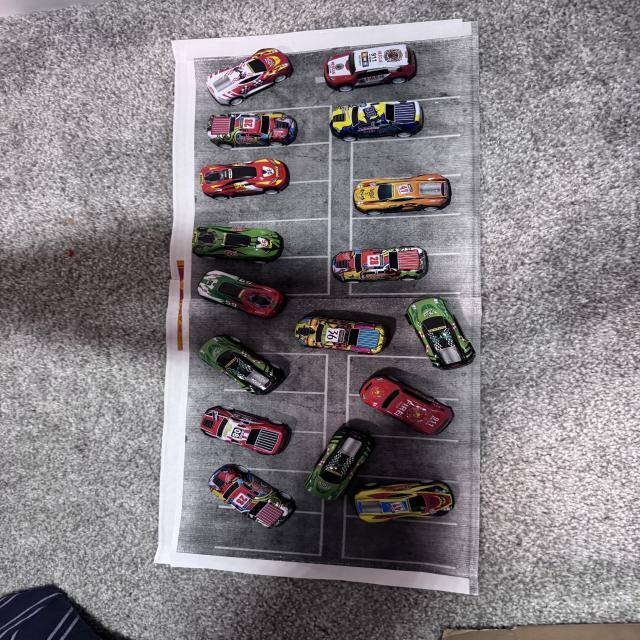car: (378, 276, 533, 384), (350, 360, 502, 440), (296, 408, 409, 509), (150, 323, 323, 388), (160, 208, 311, 280), (188, 468, 327, 544), (165, 402, 302, 464), (281, 305, 408, 366), (175, 257, 283, 323), (311, 168, 487, 202), (191, 156, 311, 202), (333, 486, 464, 526), (186, 111, 302, 152), (310, 38, 406, 84), (199, 49, 273, 100), (311, 231, 418, 265), (341, 102, 442, 138)
